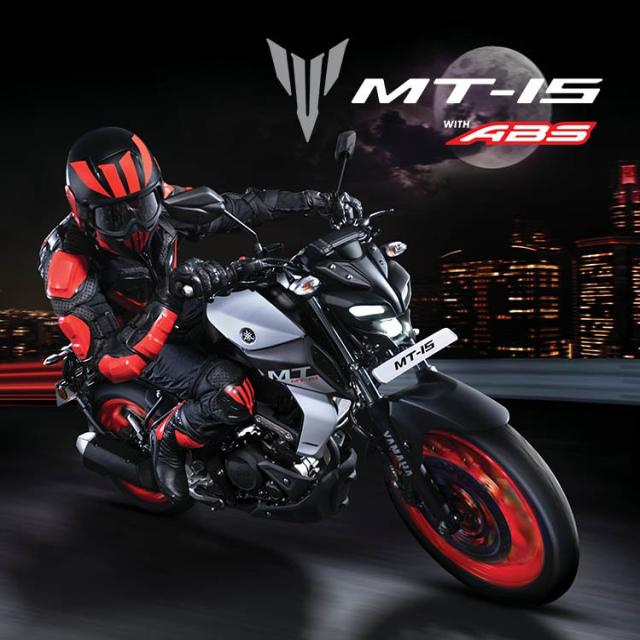plate: (372, 324, 459, 384)
